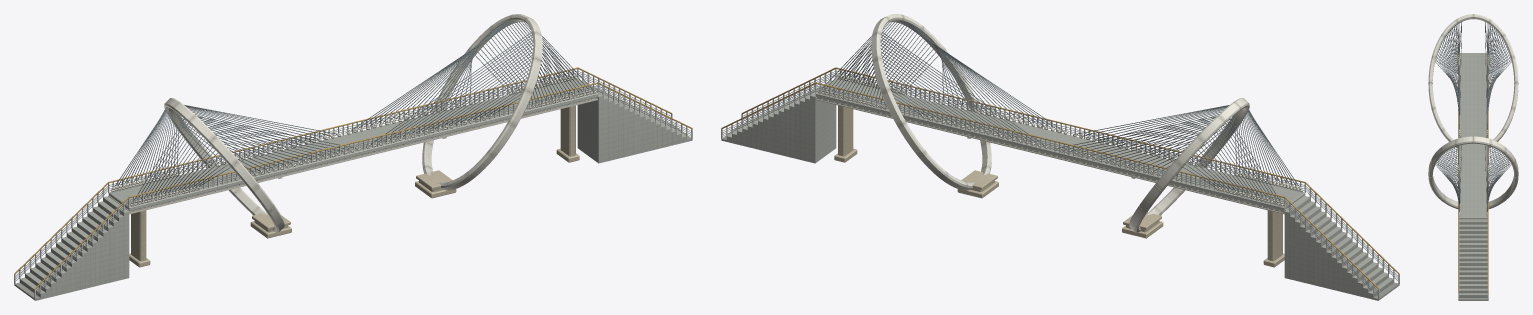
The model's file is 南京眼_网页版.glb.
The picture shows the model from 3 angles, left to right: view 1: azimuth 30°, elevation 25°; view 2: azimuth 150°, elevation 25°; view 3: azimuth 270°, elevation 25°; orthographic projection. The views are drawn at different scales.
Visible parts, largest first — view 1: 南京眼_WEB_桥梁; view 2: 南京眼_WEB_桥梁; view 3: 南京眼_WEB_桥梁.
Boxes of the visible parts, <box> form: 南京眼_WEB_桥梁: <box>14,14,692,300</box>; 南京眼_WEB_桥梁: <box>721,14,1399,300</box>; 南京眼_WEB_桥梁: <box>1428,14,1518,300</box>.
Size of the model in its own units: 56.08 by 12.51 by 9.26.
Materials: 5 (2 with a texture image).
